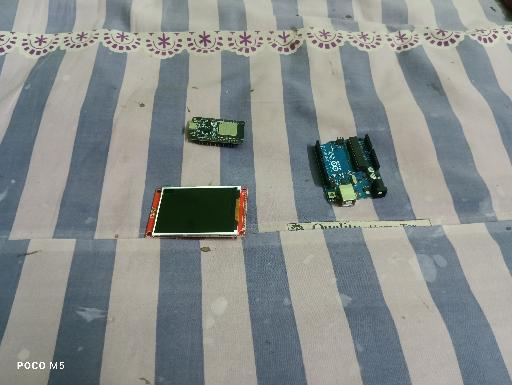Arduino: (312, 133, 388, 208)
Display: (144, 185, 248, 241)
Esp32: (187, 115, 246, 148)
